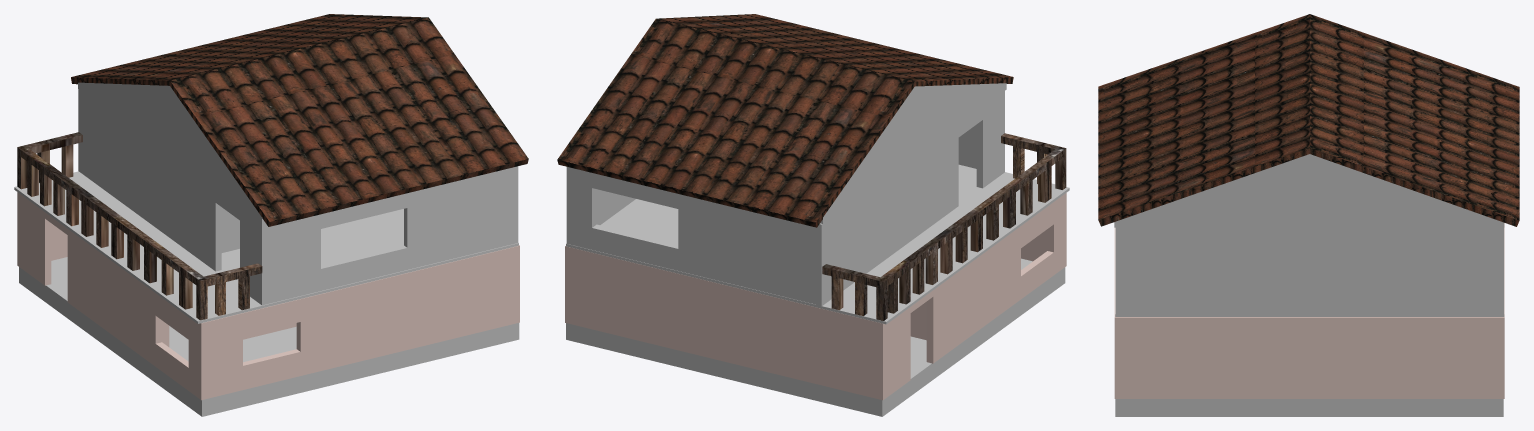
Rendered from bahaynijumonh.fbx.
3 renders of one model, left to right at view 1: azimuth 30°, elevation 25°; view 2: azimuth 150°, elevation 25°; view 3: azimuth 270°, elevation 25°, orthographic. The views are drawn at different scales.
Visible parts, largest first — view 1: Roof, OuterWall, SecondFloorWalls, Cube.001, railings, SecondFloor, Ceilings; view 2: Roof, OuterWall, SecondFloorWalls, railings, Cube.001, SecondFloor, Ceilings, sikandwallinside; view 3: Roof, SecondFloorWalls, OuterWall, Ceilings, Cube.001, SecondFloor.
Part boxes in pixels (x1=…): Roof: x1=71, y1=14, x2=528, y2=226; OuterWall: x1=17, y1=192, x2=519, y2=400; SecondFloorWalls: x1=78, y1=89, x2=518, y2=305; Cube.001: x1=19, y1=257, x2=519, y2=416; railings: x1=17, y1=132, x2=262, y2=320; SecondFloor: x1=14, y1=171, x2=518, y2=323; Ceilings: x1=78, y1=82, x2=265, y2=223; Roof: x1=557, y1=14, x2=1013, y2=227; OuterWall: x1=565, y1=193, x2=1066, y2=400; SecondFloorWalls: x1=566, y1=91, x2=1004, y2=306; railings: x1=822, y1=133, x2=1066, y2=320; Cube.001: x1=566, y1=258, x2=1065, y2=416; SecondFloor: x1=566, y1=164, x2=1069, y2=324; Ceilings: x1=820, y1=83, x2=1006, y2=223; sikandwallinside: x1=910, y1=302, x2=926, y2=340; Roof: x1=1098, y1=14, x2=1519, y2=226; SecondFloorWalls: x1=1116, y1=227, x2=1503, y2=314; OuterWall: x1=1114, y1=223, x2=1504, y2=398; Ceilings: x1=1114, y1=154, x2=1504, y2=227; Cube.001: x1=1115, y1=399, x2=1503, y2=416; SecondFloor: x1=1115, y1=227, x2=1504, y2=316.
Size of what is drawn, in the model's own units: 10.56 by 7.95 by 11.25.
